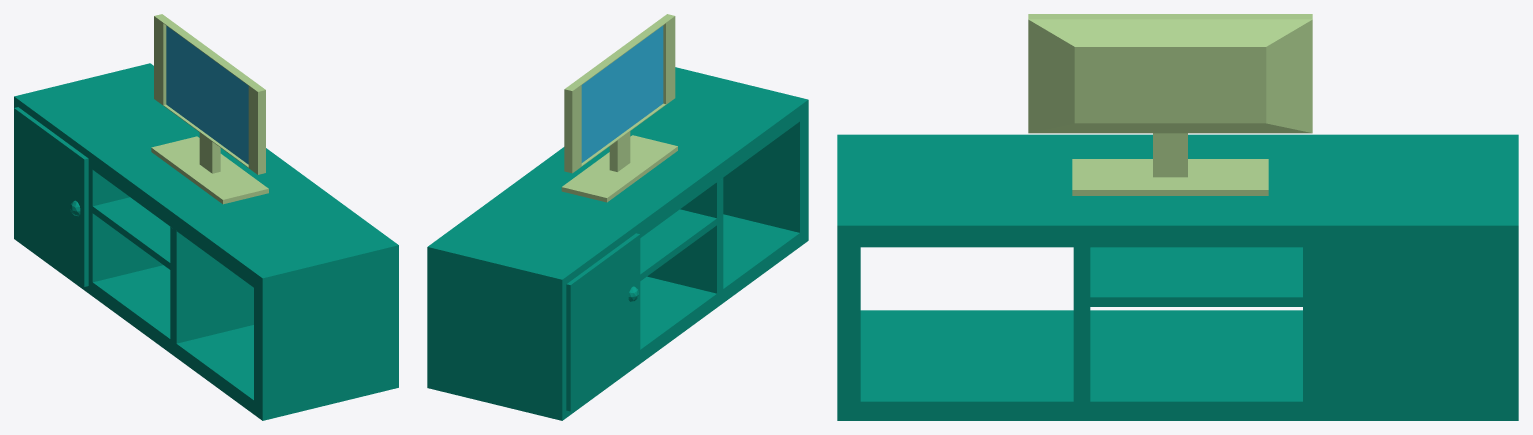
File: Tele y Mueble.FBX
3 views of the same model, side by side, from view 1: azimuth 30°, elevation 25°; view 2: azimuth 150°, elevation 25°; view 3: azimuth 270°, elevation 25° (orthographic). The views are drawn at different scales.
Parts seen in each view (by area): view 1: Comoda, Television; view 2: Comoda, Television; view 3: Comoda, Television.
Part boxes in pixels (x1,y1,x2,y2): Comoda: [14, 63, 398, 420]; Television: [151, 14, 268, 204]; Comoda: [427, 67, 808, 420]; Television: [561, 14, 677, 202]; Comoda: [837, 134, 1518, 420]; Television: [1028, 14, 1312, 195].
Bounding box in the file's own units: 87.28 × 150 × 258.
